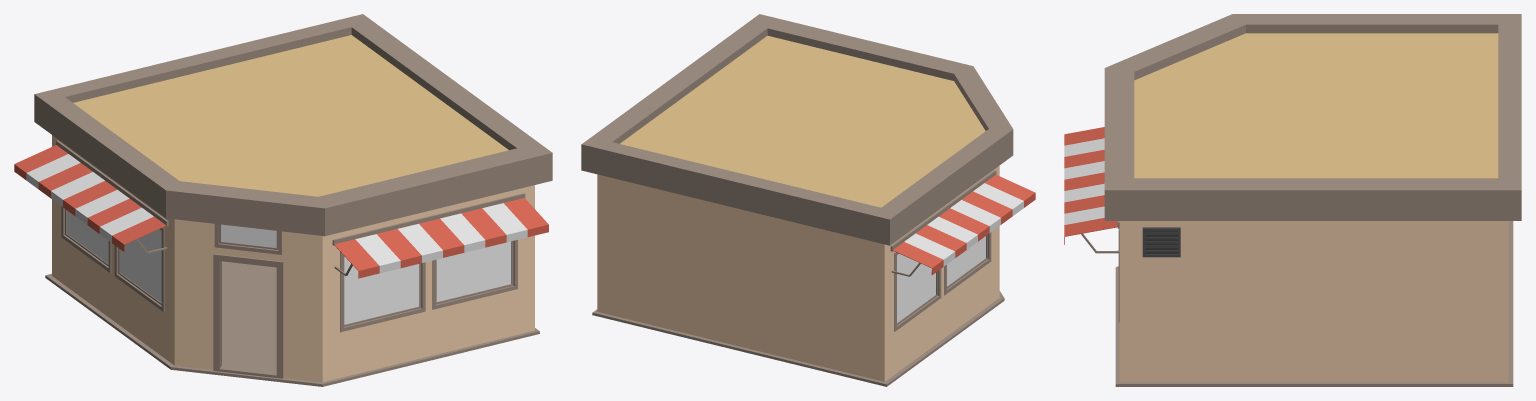
File: SmallHouse_03.fbx
3 renders of one model, left to right at view 1: azimuth 30°, elevation 25°; view 2: azimuth 150°, elevation 25°; view 3: azimuth 270°, elevation 25°, orthographic. The views are drawn at different scales.
Parts seen in each view (by area): view 1: SmallHouse_03; view 2: SmallHouse_03; view 3: SmallHouse_03.
Boxes of the visible parts, <box> form: SmallHouse_03: <box>14,14,552,386</box>; SmallHouse_03: <box>581,14,1035,386</box>; SmallHouse_03: <box>1064,14,1521,386</box>.
Size of the model in its own units: 708 by 342 by 706.
